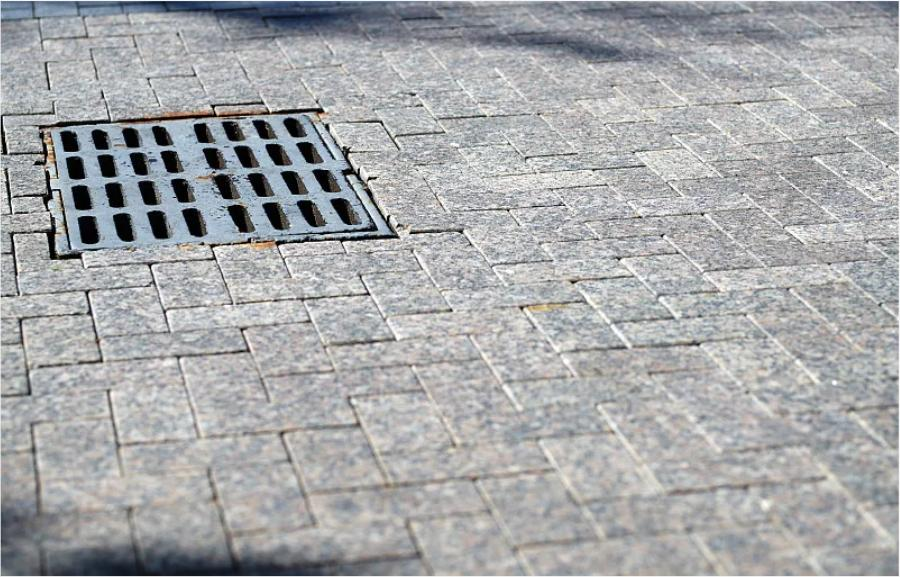wellcover: (19, 103, 413, 255)
